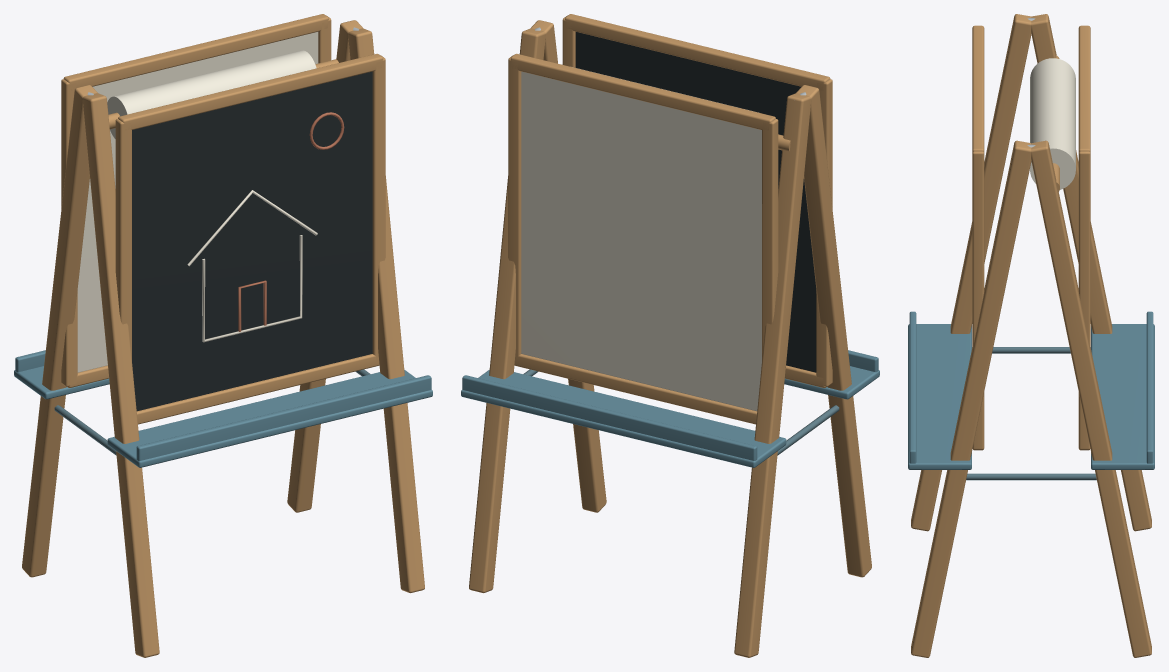
The model's file is kids-drawing-easel.glb.
3 views of the same model, side by side, from view 1: azimuth 30°, elevation 25°; view 2: azimuth 150°, elevation 25°; view 3: azimuth 270°, elevation 25° (orthographic). The views are drawn at different scales.
Parts seen in each view (by area): view 1: kids-drawing-easel authored assembly; view 2: kids-drawing-easel authored assembly; view 3: kids-drawing-easel authored assembly.
Part boxes in pixels (bbox=[...]): kids-drawing-easel authored assembly: bbox=[14, 14, 432, 657]; kids-drawing-easel authored assembly: bbox=[461, 14, 879, 657]; kids-drawing-easel authored assembly: bbox=[908, 14, 1154, 657].
Bounding box in the file's own units: 0.66 × 1.12 × 0.49.
